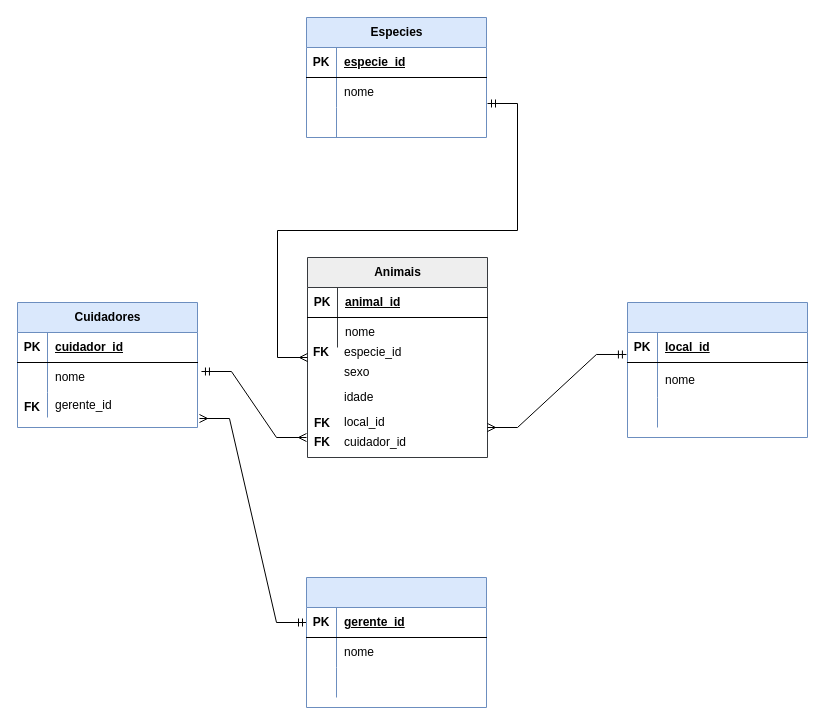
Image size: 825x725. Some labels were removed from this diagram. The shapes that lost their labels are listed below. From the top down, each one's box as (x1, y1, x2, y2) in pixels, then its label:
(626, 302, 808, 438): Localidade
(306, 576, 486, 708): Gerentes
